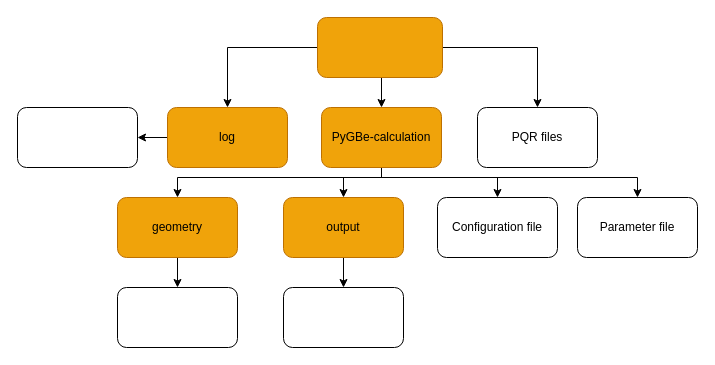
This 715x365 diagram has some shape labels left out. The shapes that lost their labels are listed below. From the top down, each one's centre as x and y in pixels, then its label:
At (379,47): "Calculation directory".
At (77,137): "log files".
At (177,317): ".vert, .face and phi0 files".
At (343,317): "Output files".
